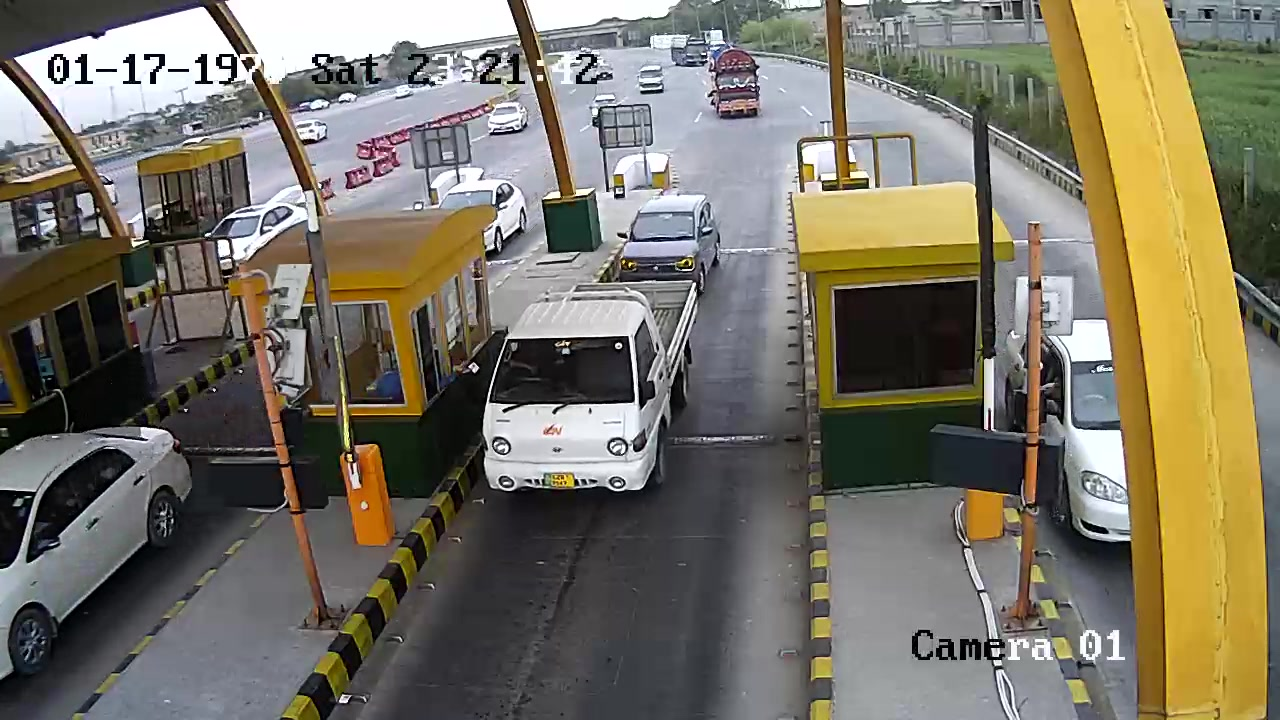F2: (482, 280, 703, 499)
